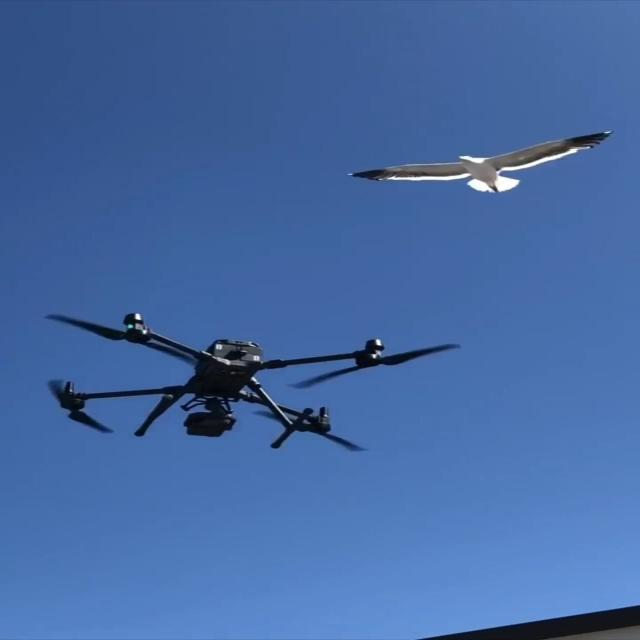bird: (346, 129, 612, 193)
drone: (42, 312, 460, 452)
